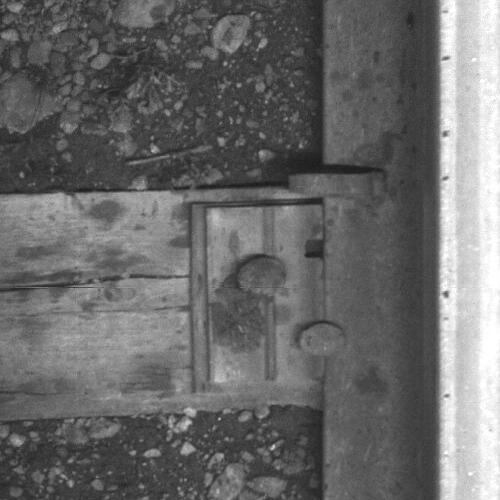crutch: (289, 168, 390, 196)
do: (205, 204, 348, 385)
hole_do: (298, 230, 333, 268)
rail: (437, 1, 500, 500)
tie_wood: (1, 190, 323, 410)
wood_crack: (1, 267, 191, 294)
